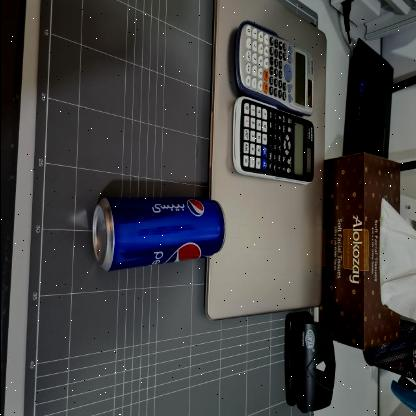Can: (88, 196, 224, 272)
